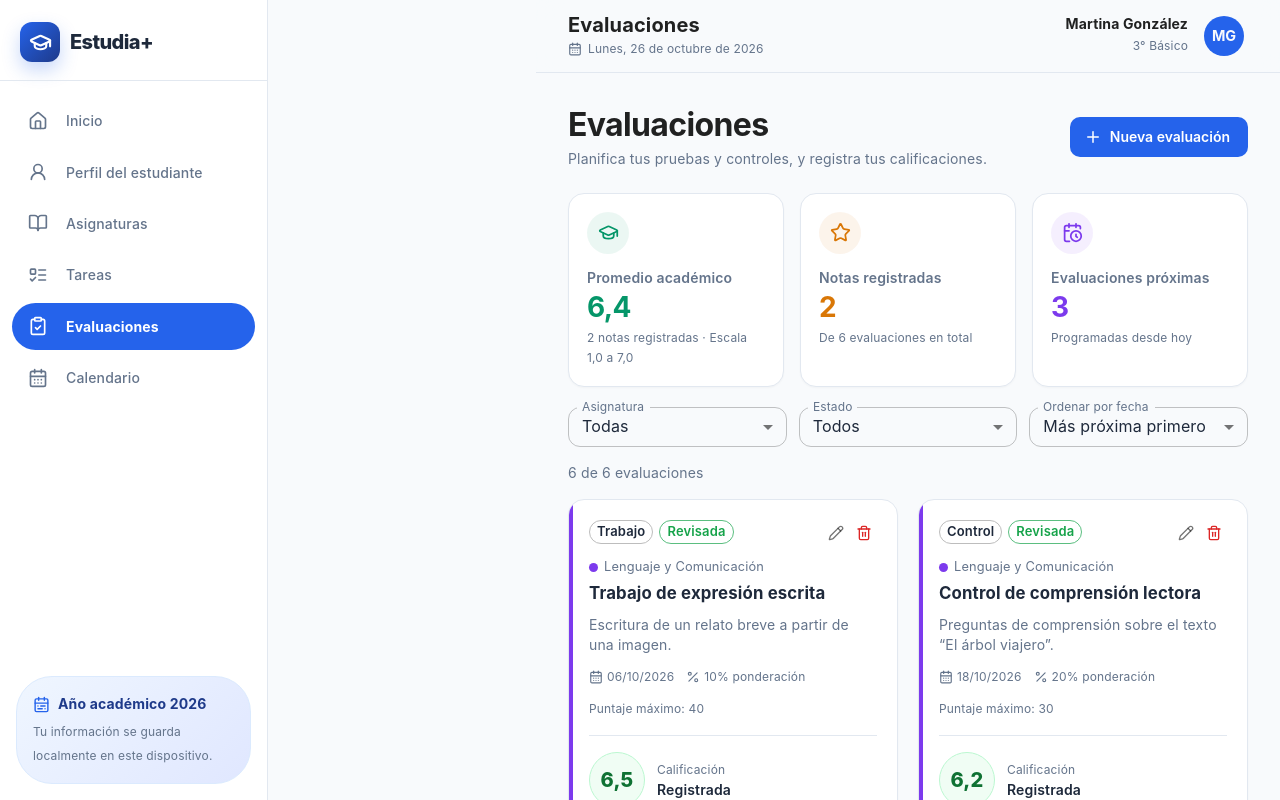
Scenario: gestión de evaluaciones › crea una evaluación programada sin inventar una calificación
Click the button "Nueva evaluación".
click(1159, 137)  # box [1070,117,1248,157]
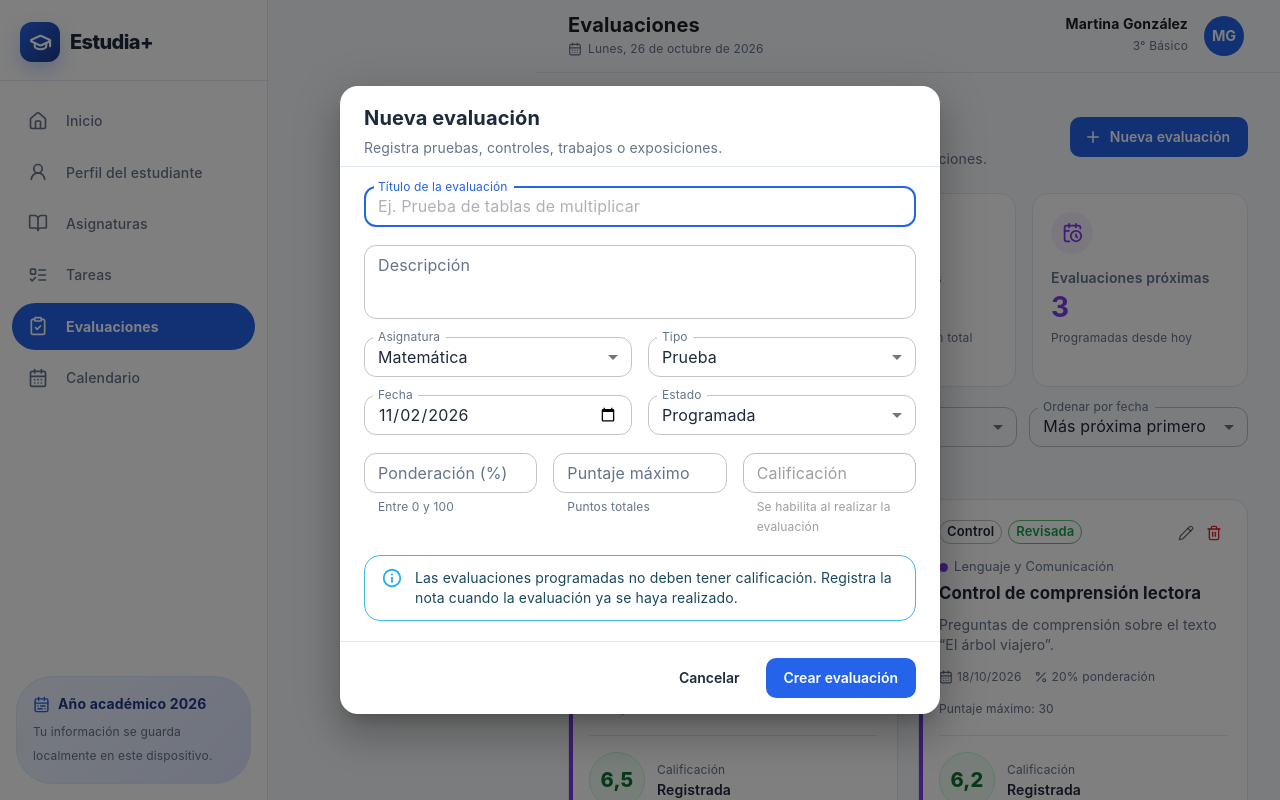
Type "Proyecto de ciencias" into the field labelled "Título de la evaluación".
click(640, 207); type("Proyecto de ciencias")  # box [364,187,916,227]
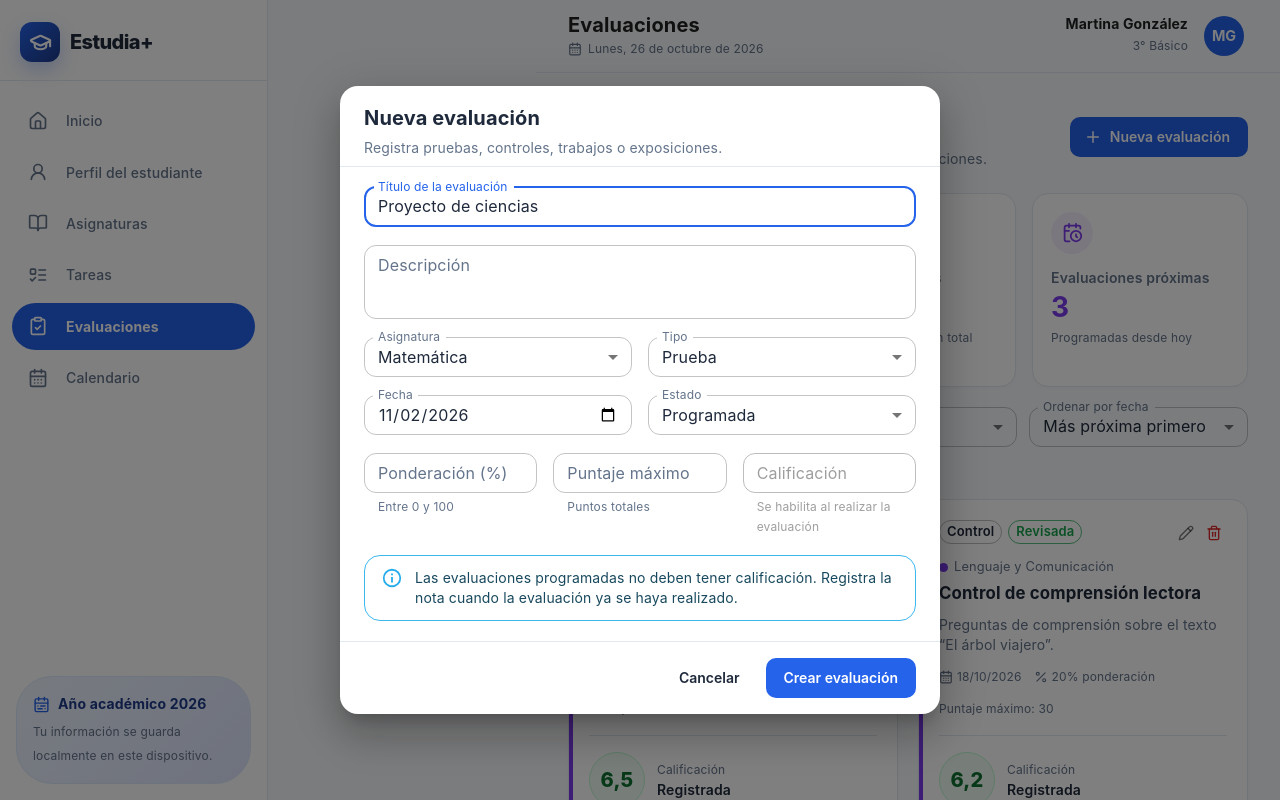
Type "Presentar un proyecto sobre energías renovables." into the text box labelled "Descripción".
click(640, 282); type("Presentar un proyecto sobre energías renovables.")  # box [378,253,902,311]
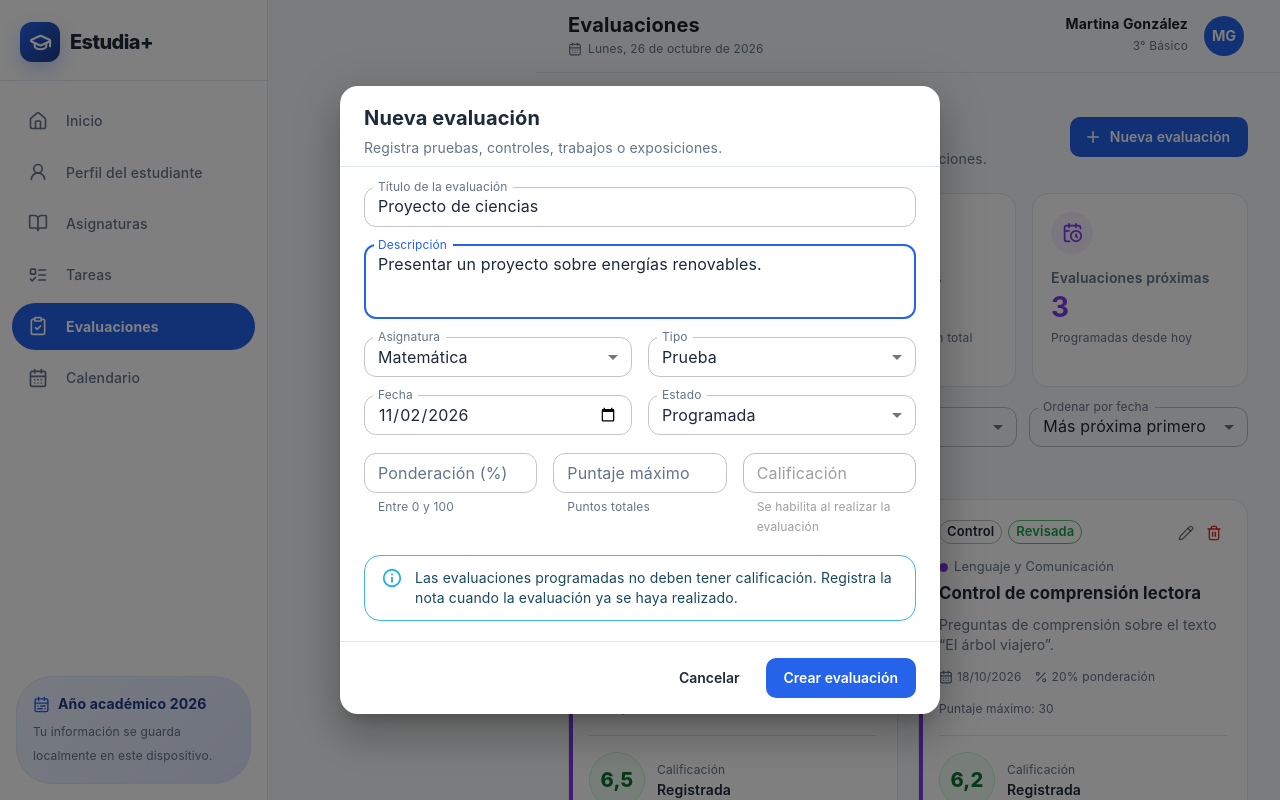
Click the button "Crear evaluación".
click(841, 678)  # box [766,658,916,698]
(page scrolled)
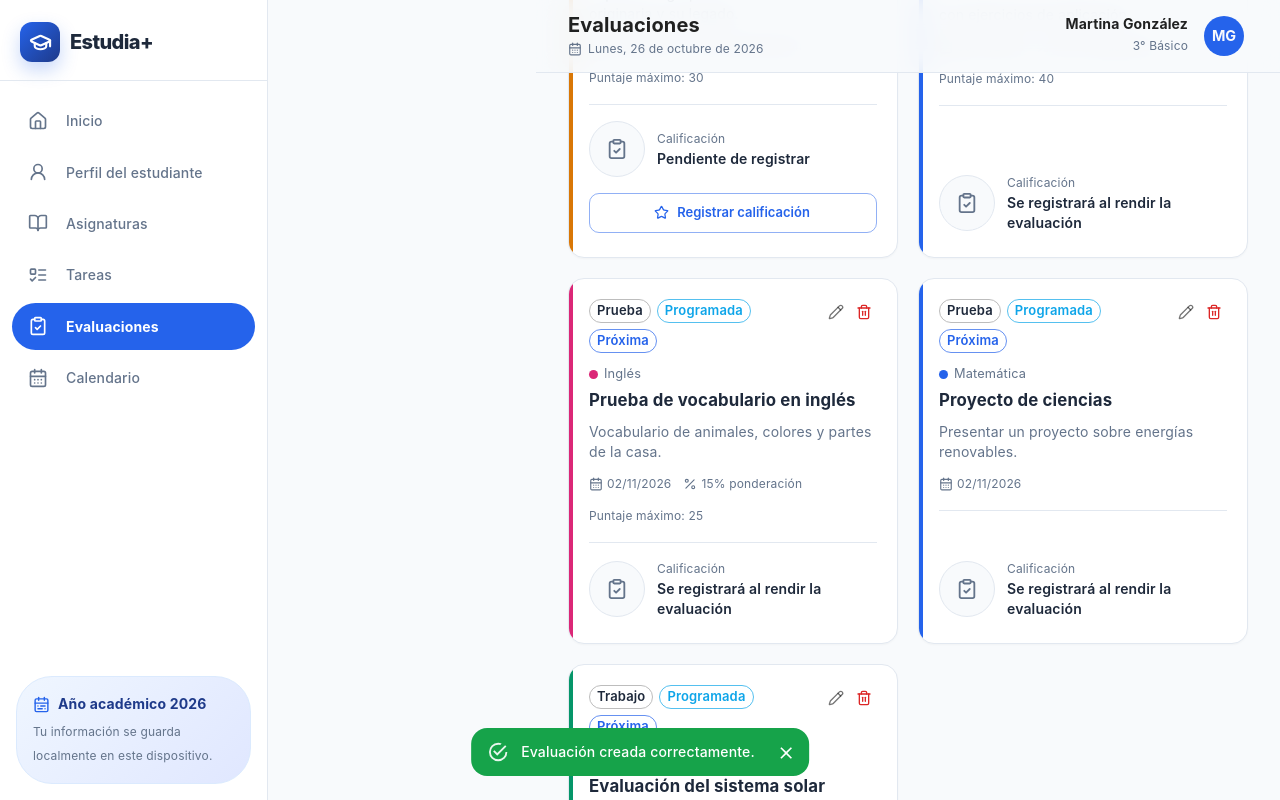
Expected: the heading "Proyecto de ciencias" is shown, [939,390,1112,410]
